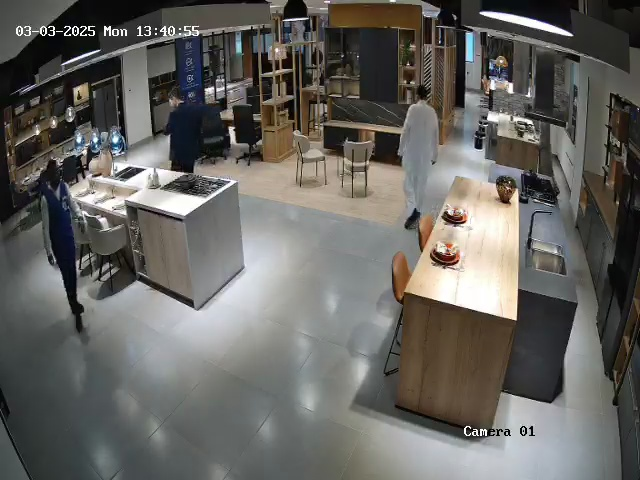employee: (38, 158, 90, 338), (164, 87, 204, 173)
male: (397, 85, 440, 230)
